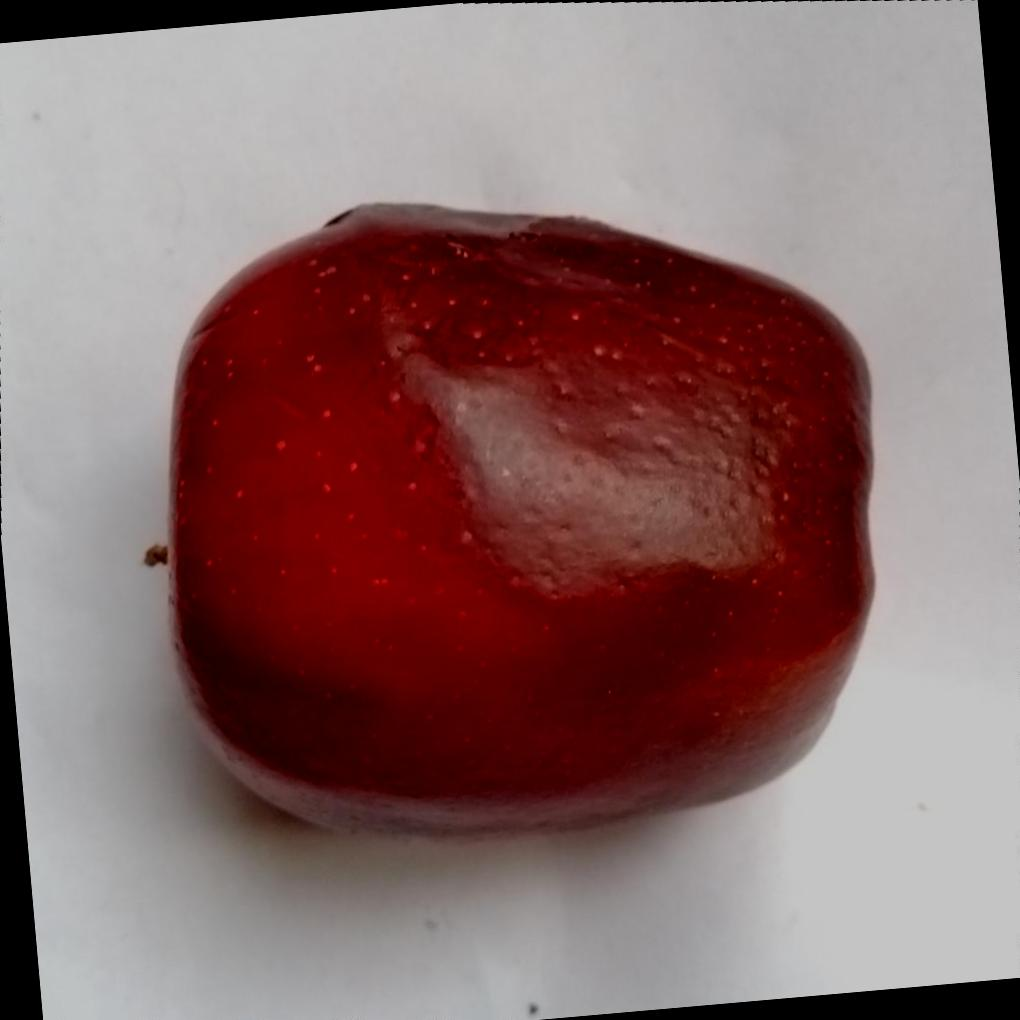FreshOrange: (160, 204, 877, 843)
